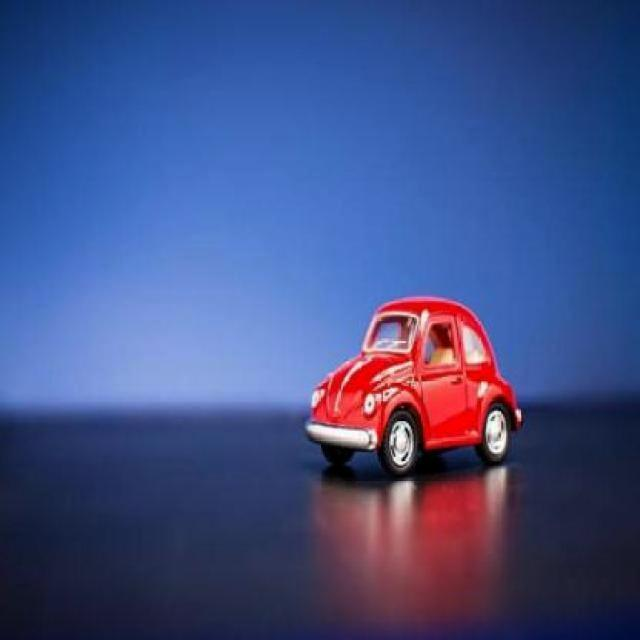car: (311, 296, 524, 484)
